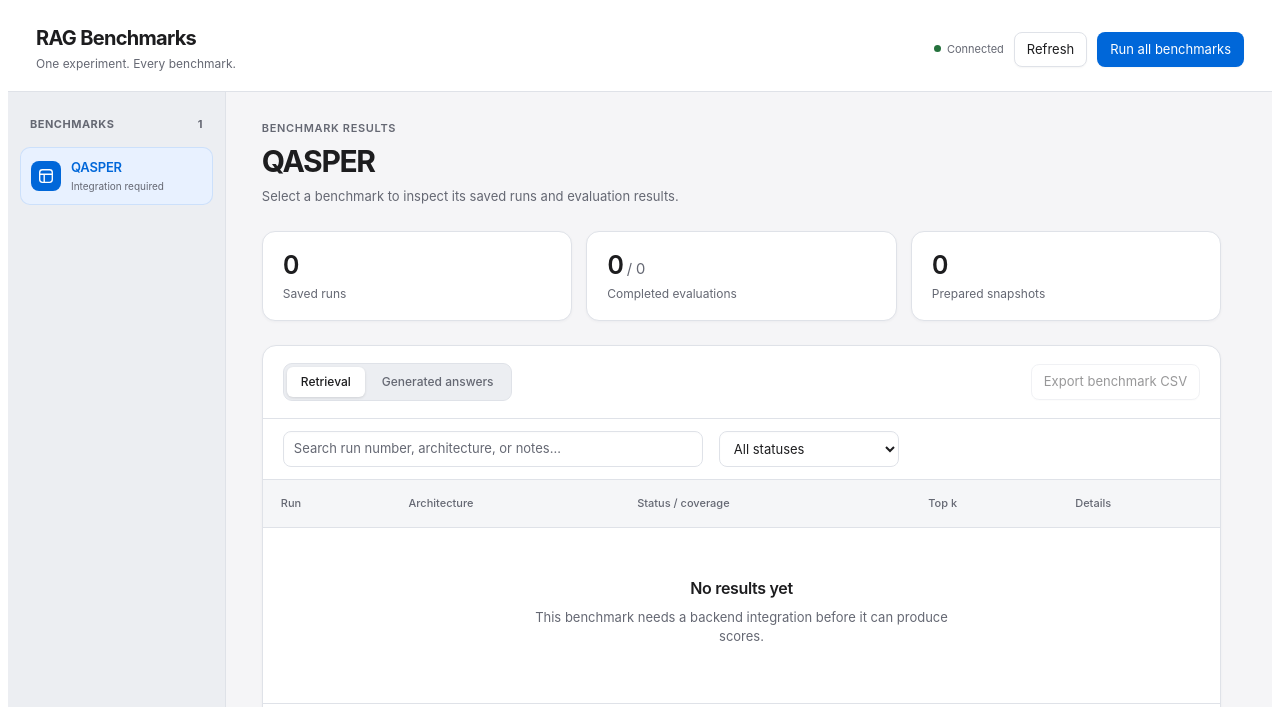
Scenario: Benchmark workspace › keeps a catalog without supported loaders or snapshots from starting an empty suite
This screenshot has width=1280, height=707.
Check: the text "Connected" is shown, box [934, 41, 1004, 58]
Click the button "Run all benchmarks".
click(1171, 50)  # box [1097, 32, 1244, 67]
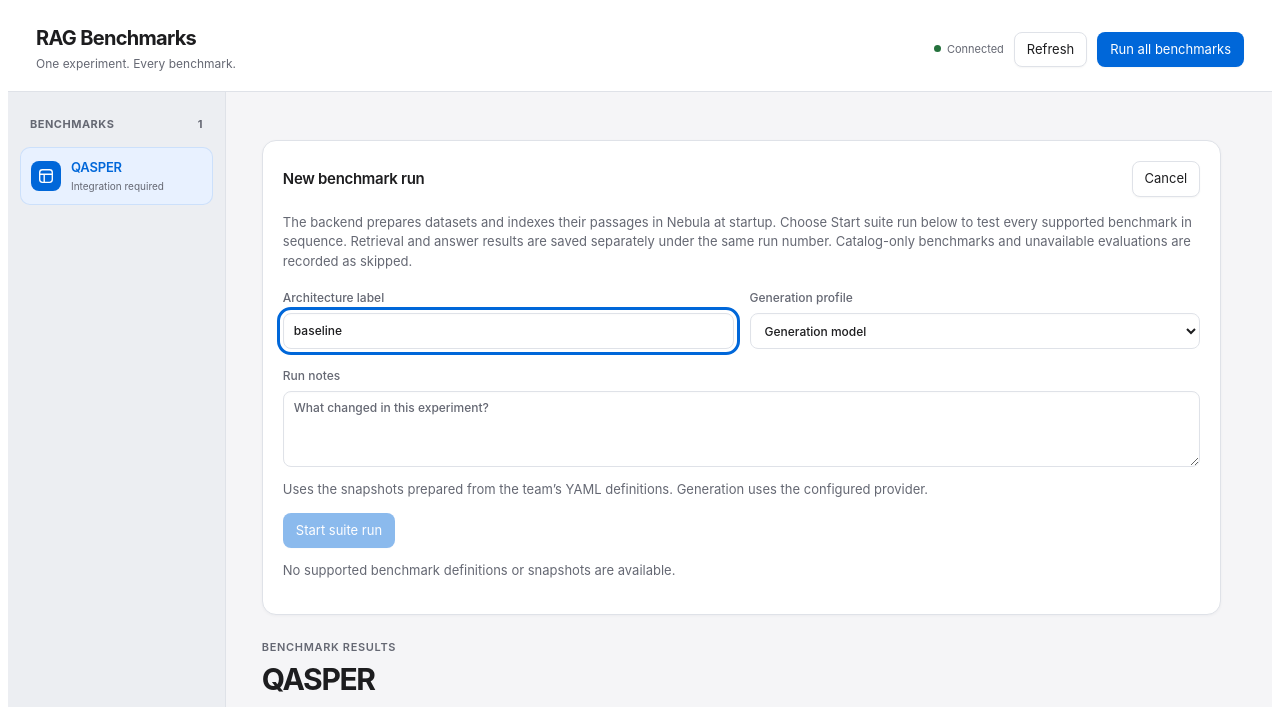
Check: the button "Start suite run" is disabled, box [283, 512, 395, 548]
Check: the text "No supported benchmark definitions or snapshots are available." is shown, box [283, 562, 675, 578]
